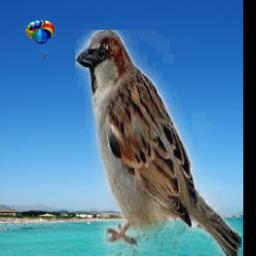Sparrow: (76, 30, 242, 256)
